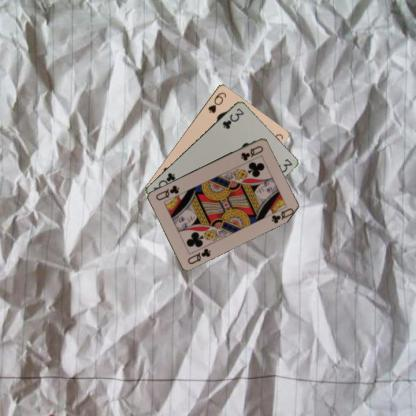3c: (220, 105, 246, 130)
6s: (205, 90, 228, 114)
Qc: (238, 142, 265, 161), (185, 246, 212, 265)
